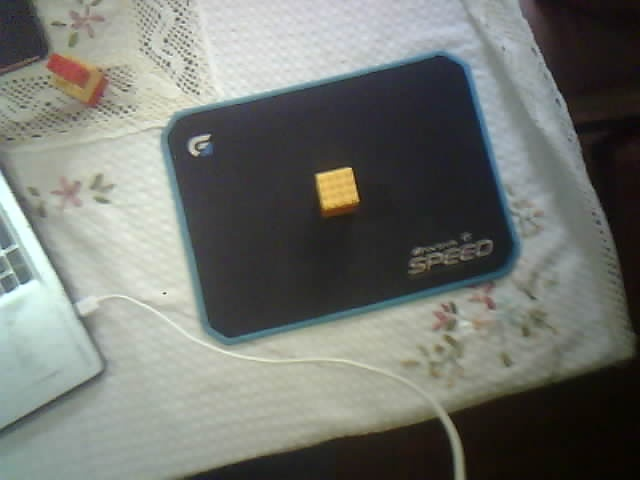lego: (44, 51, 108, 107), (312, 166, 361, 220)
